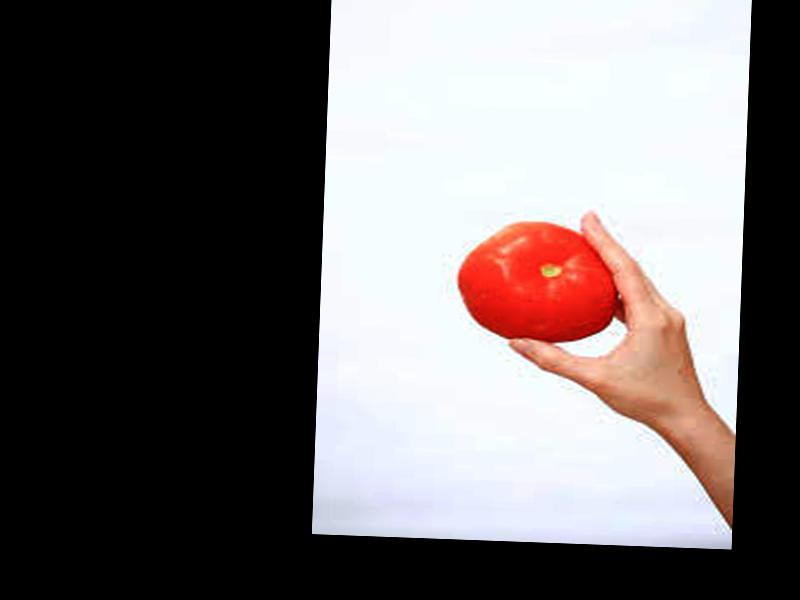Tomato: (456, 218, 616, 344)
